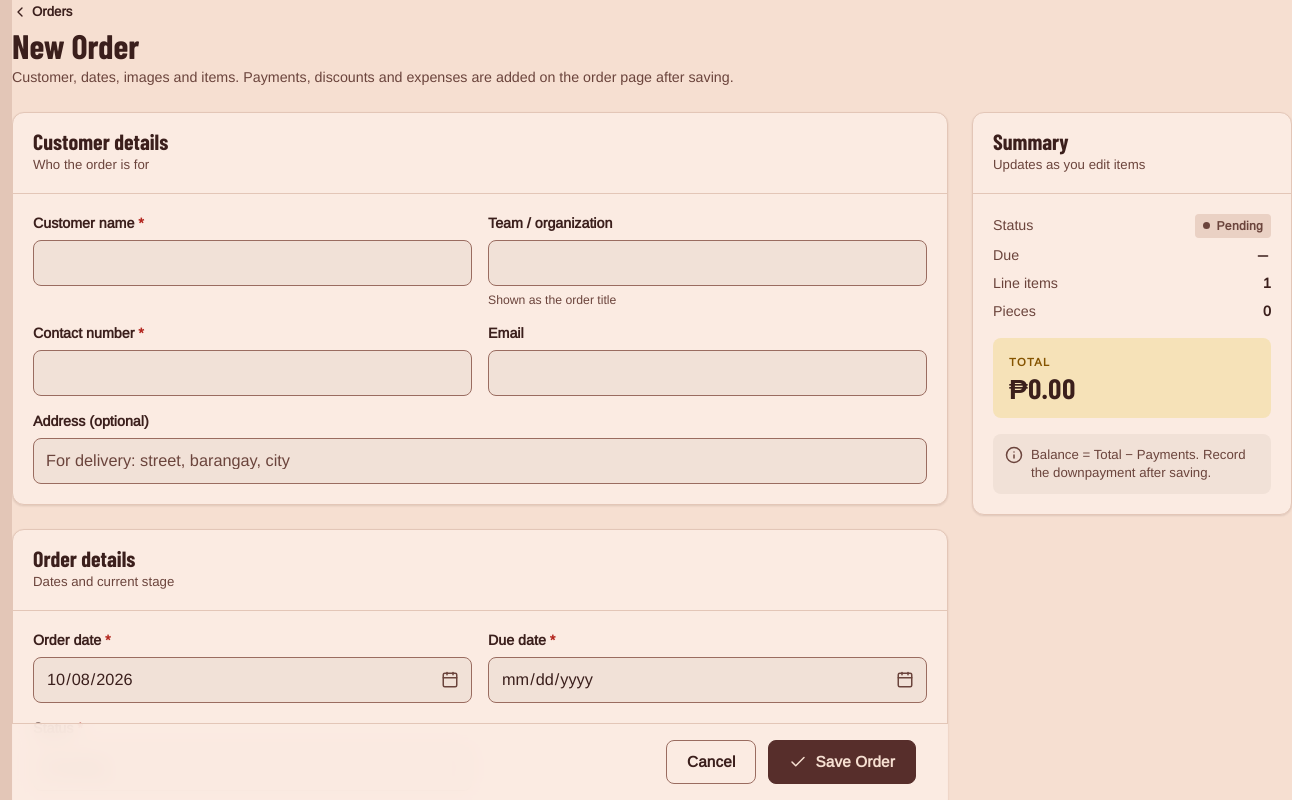
Test: the checks before any request (OR-3) › shows the server's words and sends nothing for an empty form
Check: the heading "New Order" is shown, box [12,25,139,66]
Click the button "Save Order" at (842, 762), box [768,740,916,784]
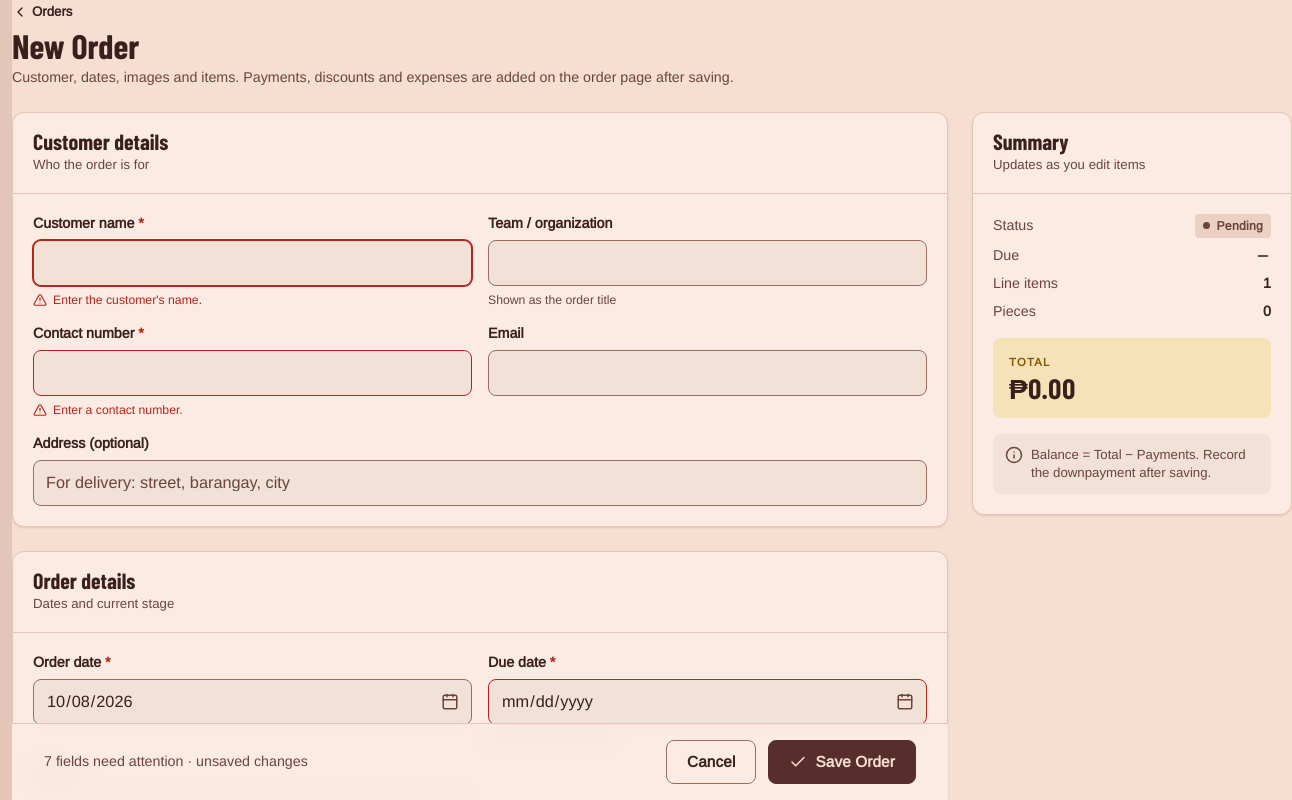
Check: the text "Enter the customer's name." is shown, box [33,293,202,307]
Check: the text "Enter a contact number." is shown, box [33,403,183,417]
